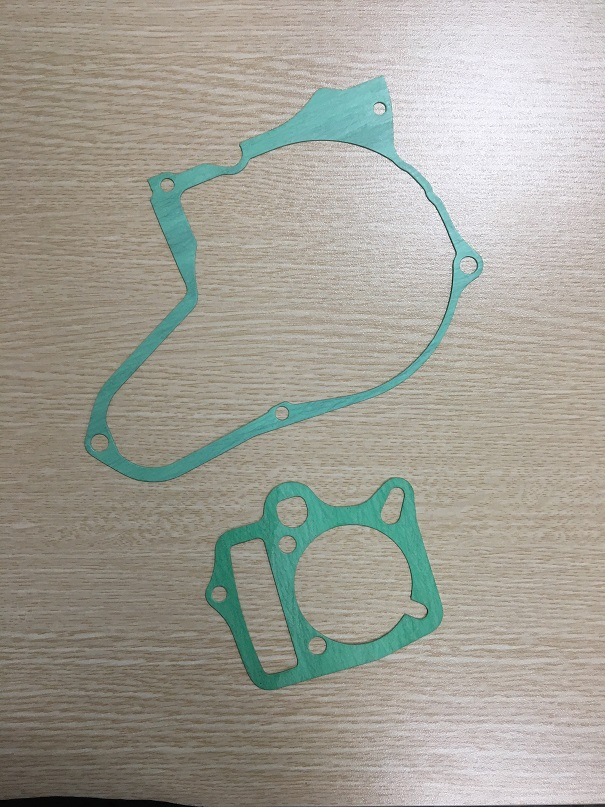type1: (74, 73, 490, 488)
type4: (192, 476, 451, 697)
